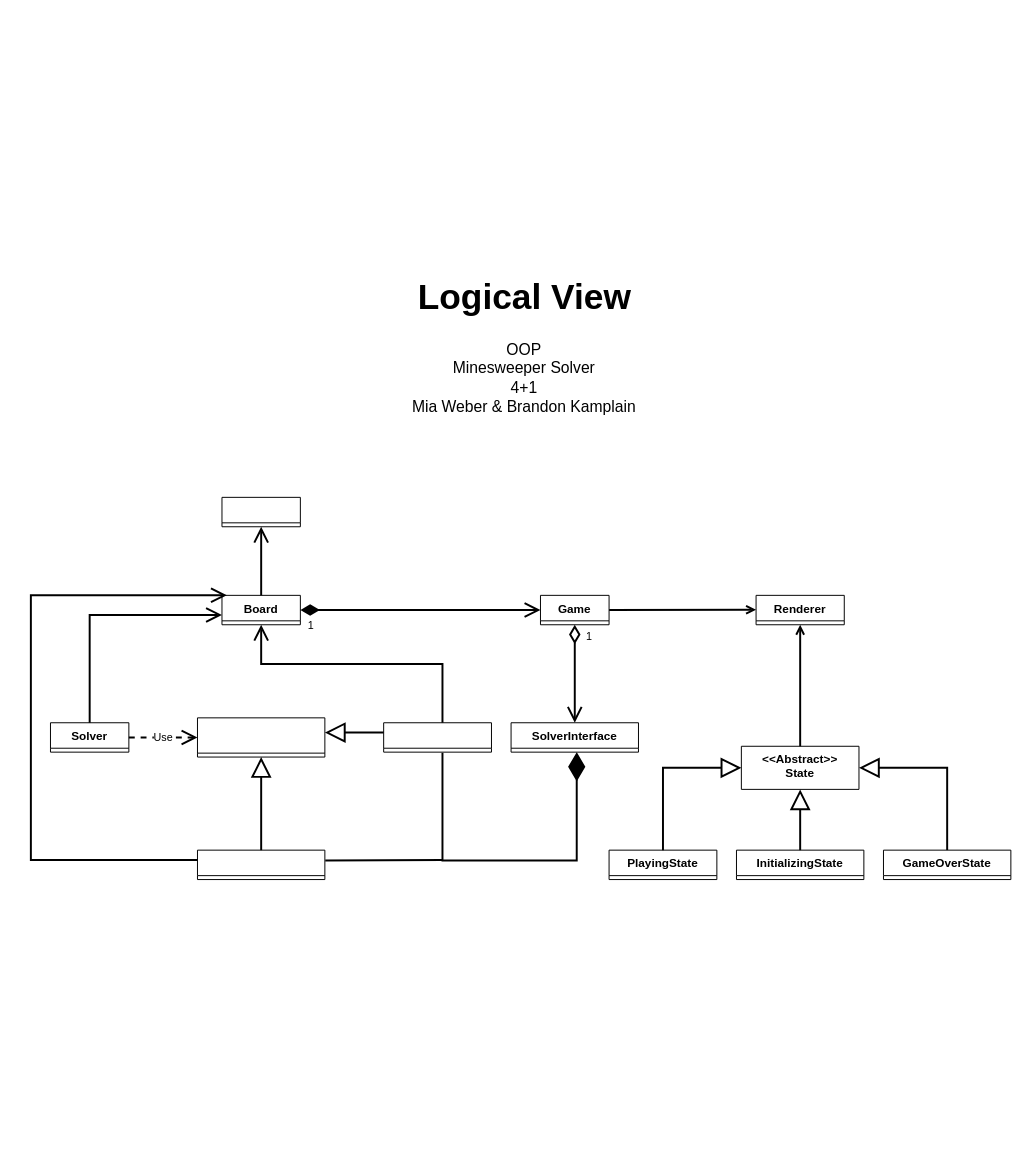
Some shapes in this 1028 by 1163 pixel diagram are drawn without their labels. Each missing label, with the box of its shape:
<<Abstract>> SolverStrategy: (196, 717, 325, 757)
AdvancedSolver: (196, 849, 325, 880)
Space: (221, 496, 300, 527)
TrivialSolver: (383, 722, 491, 752)
